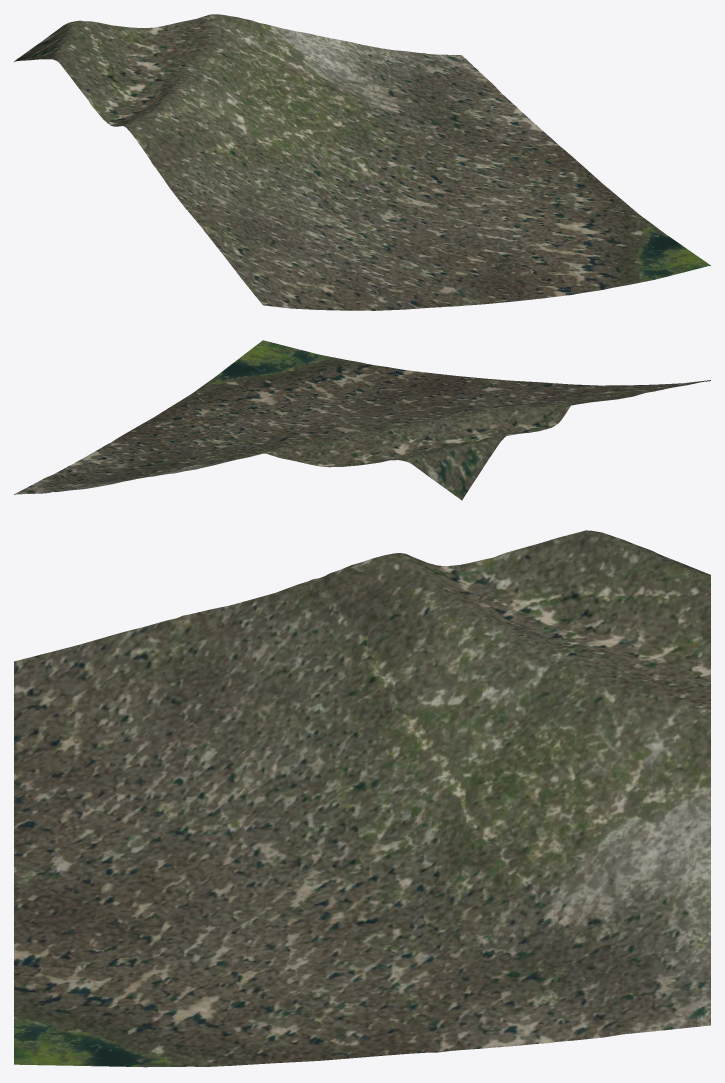
3 renders of one model, top to bottom at view 1: azimuth 30°, elevation 25°; view 2: azimuth 150°, elevation 25°; view 3: azimuth 270°, elevation 25°, orthographic. The views are drawn at different scales.
Bounding box in the file's own units: 500 × 177 × 481.
1 material, 1 textured.
